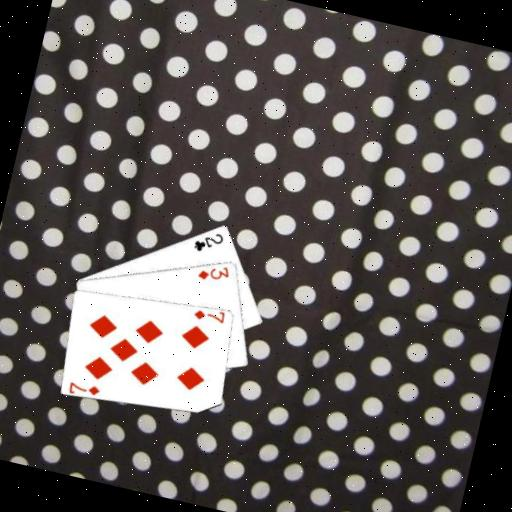2C: (190, 225, 227, 258)
3D: (194, 258, 233, 287)
7D: (190, 304, 228, 327), (66, 377, 104, 400)
